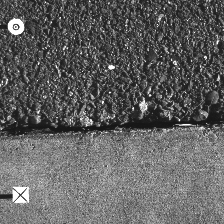circle: (7, 18, 24, 34)
crack: (1, 115, 223, 138)
square: (12, 187, 29, 203)
